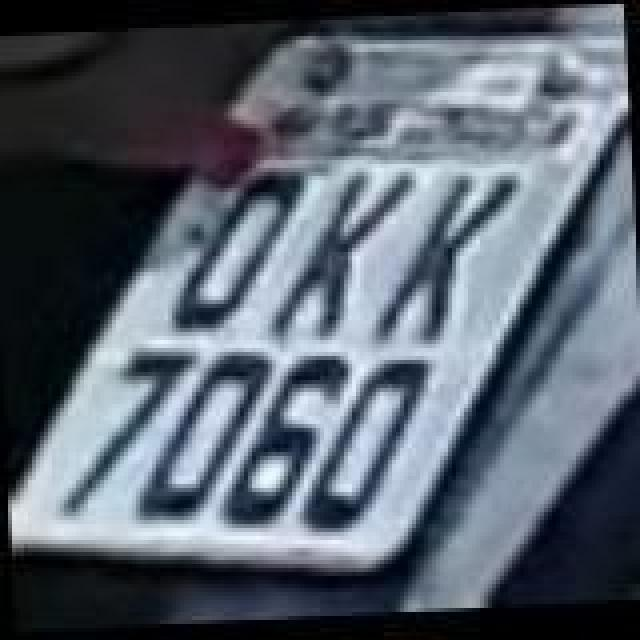6: (210, 348, 366, 532)
7: (46, 344, 202, 520), (130, 340, 254, 524)
K: (364, 168, 532, 344), (262, 166, 426, 346)
O: (136, 346, 280, 526), (160, 168, 312, 336), (294, 358, 442, 530)
